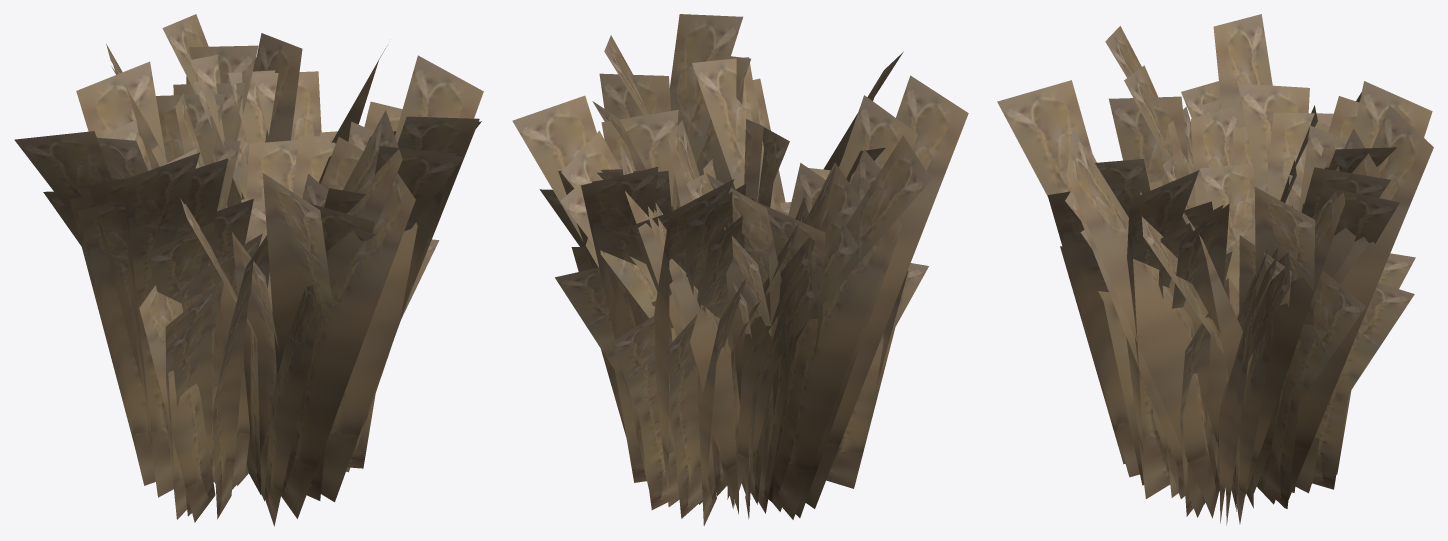
The model's file is New SpeedTree.fbx.
3 views of the same model, side by side, from view 1: azimuth 30°, elevation 25°; view 2: azimuth 150°, elevation 25°; view 3: azimuth 270°, elevation 25° (orthographic). The views are drawn at different scales.
Visible parts, largest first — view 1: LOD0; view 2: LOD0; view 3: LOD0.
Part boxes in pixels (<box>): LOD0: <box>14,14,483,526</box>; LOD0: <box>512,14,968,525</box>; LOD0: <box>997,14,1433,525</box>.
Bounding box in the file's own units: 35.67 × 34.1 × 34.87.
